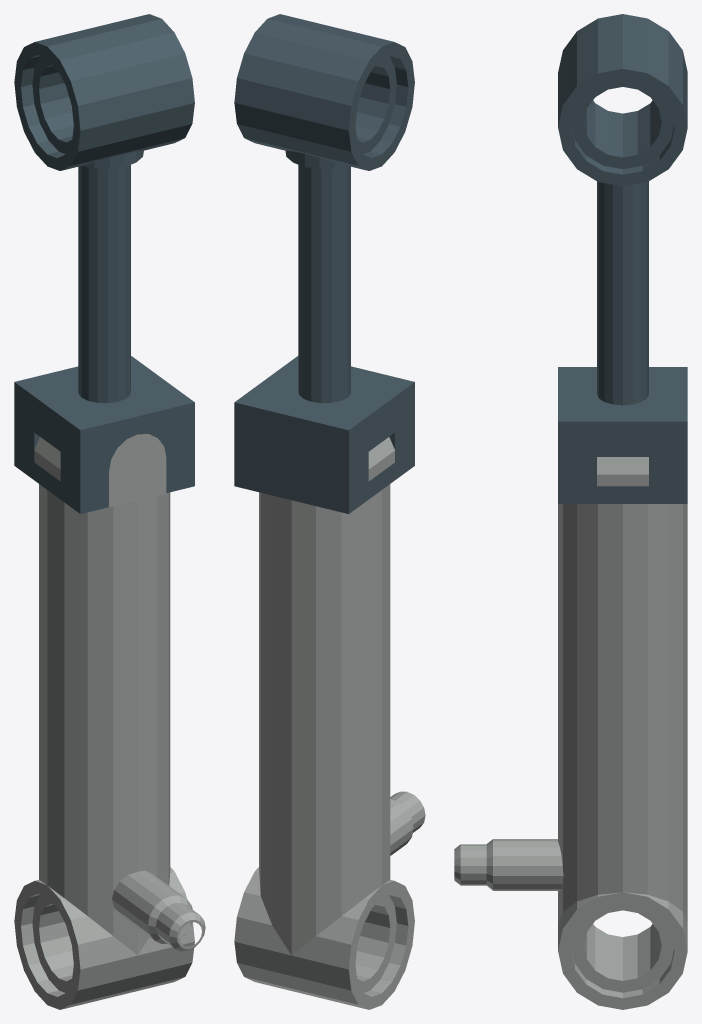
The picture shows the model from 3 angles, left to right: view 1: azimuth 30°, elevation 25°; view 2: azimuth 150°, elevation 25°; view 3: azimuth 270°, elevation 25°; orthographic projection.
Parts seen in each view (by area): view 1: world; view 2: world; view 3: world.
Boxes of the visible parts, box(x1,y1,x2,y2) form: world: box(14, 14, 205, 1009); world: box(234, 14, 425, 1009); world: box(454, 14, 687, 1009).
Size of the model in its own units: 0.008 by 0.064 by 0.0144.
